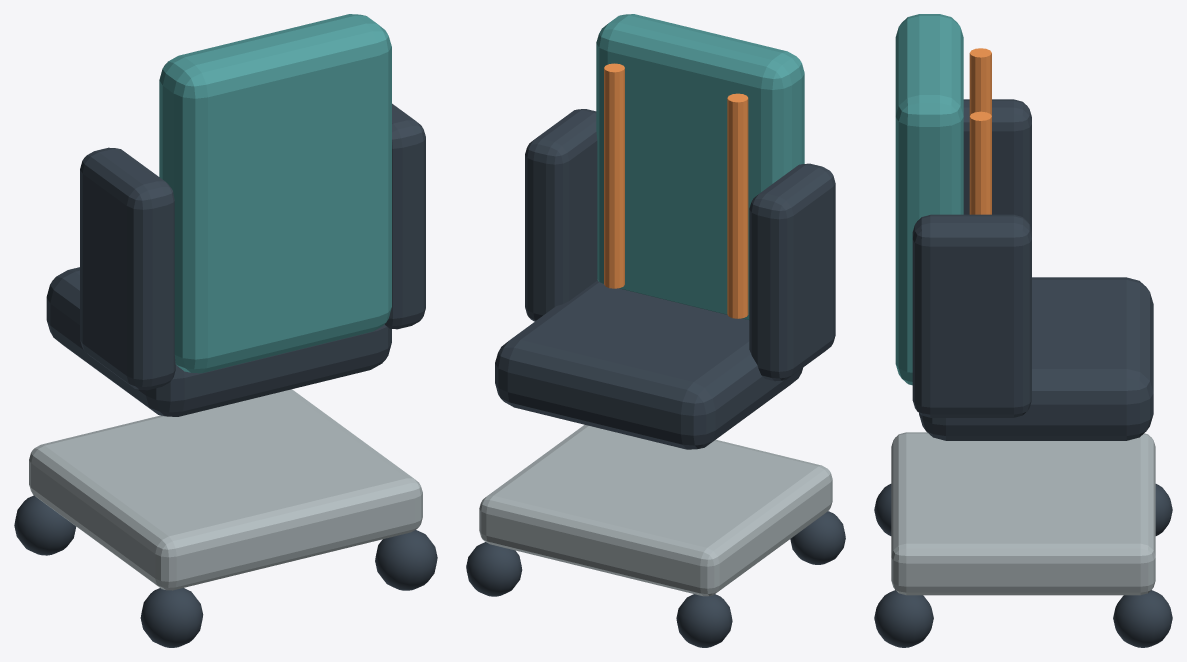
The model's file is chair_racing_seat.glb.
3 views of the same model, side by side, from view 1: azimuth 30°, elevation 25°; view 2: azimuth 150°, elevation 25°; view 3: azimuth 270°, elevation 25° (orthographic). The views are drawn at different scales.
Visible parts, largest first — view 1: racing_seat; view 2: racing_seat; view 3: racing_seat.
Boxes of the visible parts, <box> form: racing_seat: <box>14,14,437,647</box>; racing_seat: <box>466,14,845,647</box>; racing_seat: <box>874,14,1172,647</box>.
Size of the model in its own units: 0.76 by 1.38 by 0.7.
